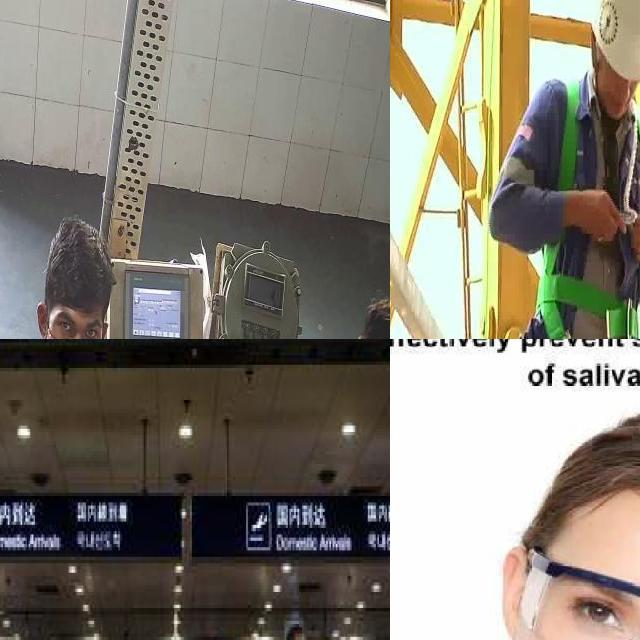Harness: (537, 272, 637, 339)
face_mask: (45, 308, 105, 339)
glasses: (514, 538, 640, 640)
head_nohelmet: (560, 405, 640, 536), (37, 211, 115, 305), (284, 620, 305, 640)
person: (0, 205, 155, 339), (294, 264, 390, 339)
